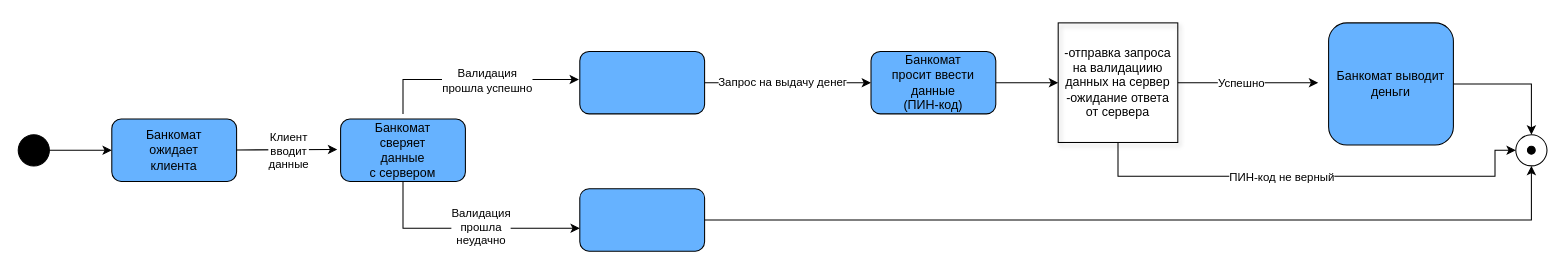
The diagram is 1565 pixels wide and 269 high, and some of its shapes have lost their labels. Here are the shapes that lost their labels. From the top down, the centre of each, then its label:
At (642,82): "Банкомат позволяет войти в систему".
At (642,219): "Банкомат выводит сообщение о неверных данных".
